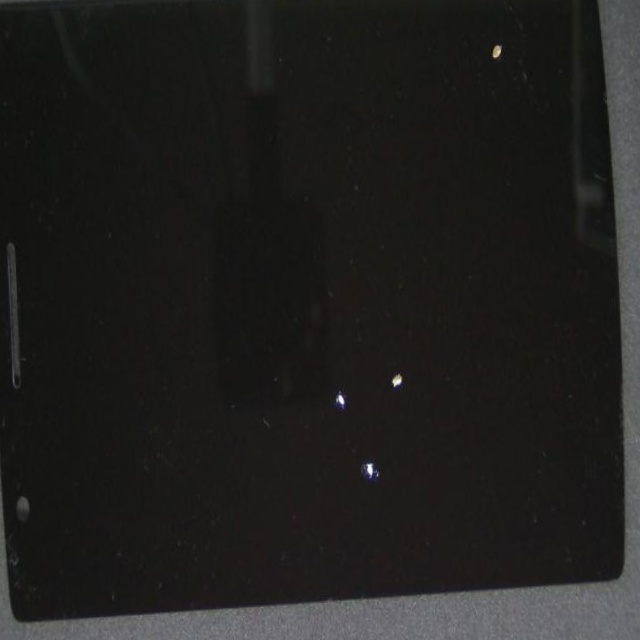stain: (201, 163, 639, 609), (185, 171, 574, 640), (146, 114, 532, 586), (228, 0, 640, 118)
